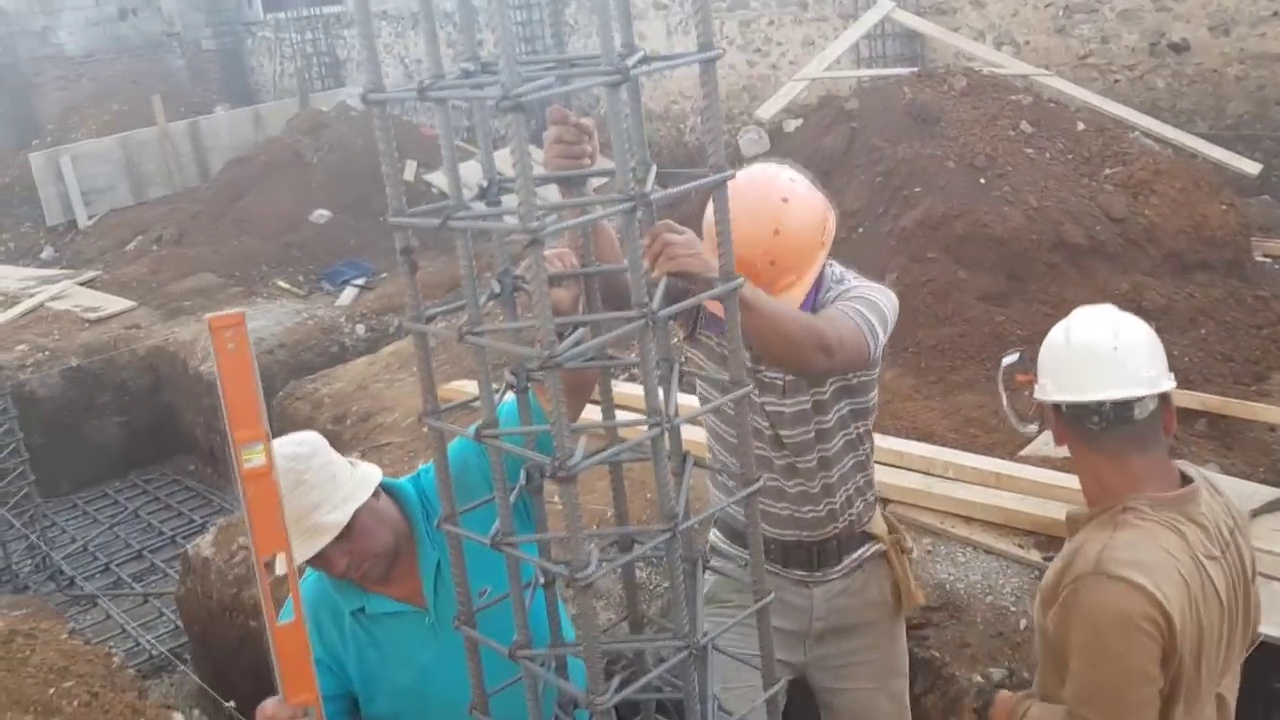helmet: (688, 166, 834, 310), (1037, 309, 1184, 420)
helmet-off: (260, 434, 439, 614)
helmet-on: (1036, 314, 1186, 519), (685, 161, 852, 327)
person: (540, 99, 910, 720), (252, 256, 591, 718), (994, 295, 1251, 720)
